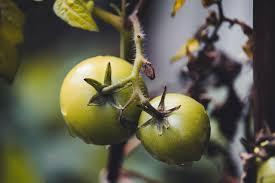Mengkal: (54, 49, 144, 146), (146, 86, 212, 162)
